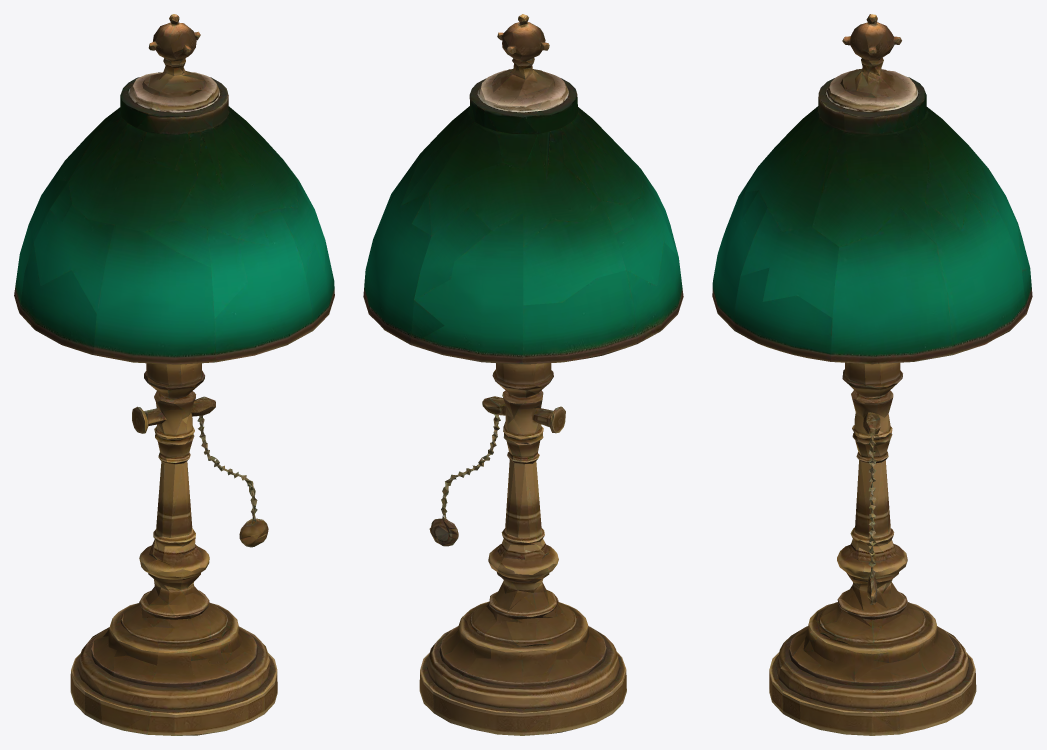
File: lamp_banker.glb
3 renders of one model, left to right at view 1: azimuth 30°, elevation 25°; view 2: azimuth 150°, elevation 25°; view 3: azimuth 270°, elevation 25°, orthographic.
Size of the model in its own units: 0.8122 by 1.9 by 0.812.
1 material, 1 textured.
